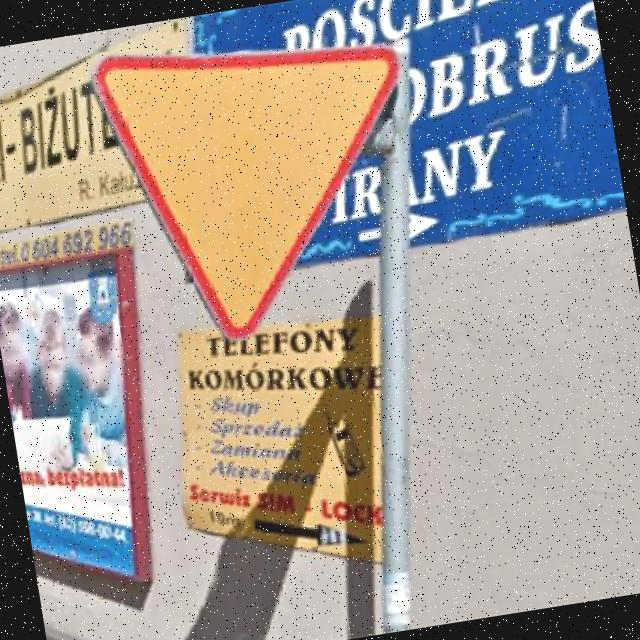Ustap pierwszenstwa: (82, 7, 440, 360)
